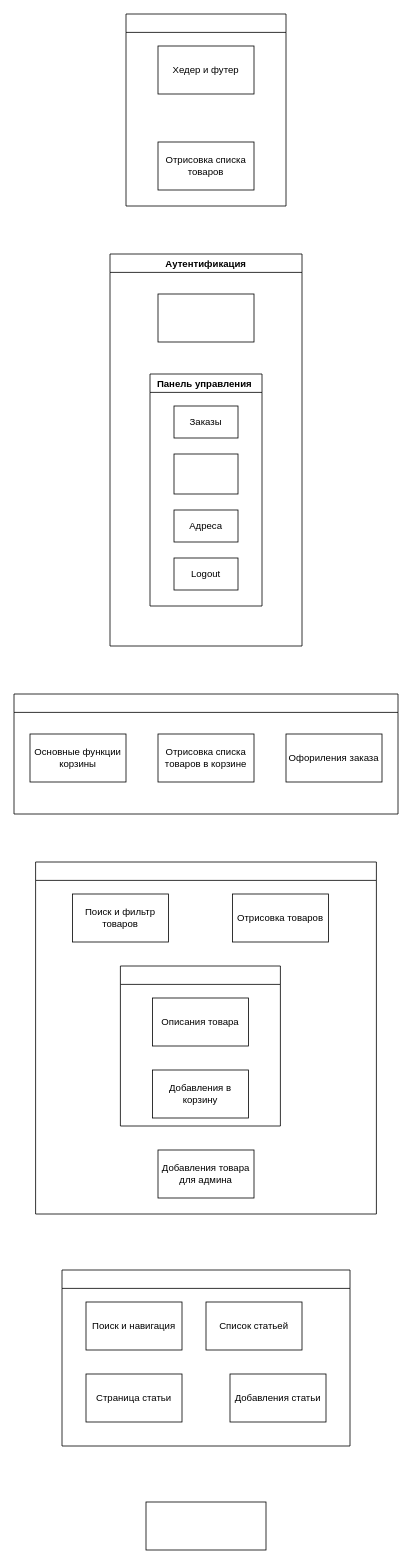
Some shapes in this 412 by 1564 pixel diagram are drawn without their labels. Each missing label, with the box of its shape:
Блог: (61, 1269, 350, 1446)
Главная страница: (125, 13, 286, 206)
Детали профиля: (173, 453, 238, 494)
Каталог товаров: (35, 861, 376, 1214)
Корзина: (13, 693, 398, 814)
Регистрация и авторизация: (157, 293, 254, 342)
Статичные страницы: (145, 1501, 266, 1550)
Страница отдельного товара: (120, 965, 280, 1126)
